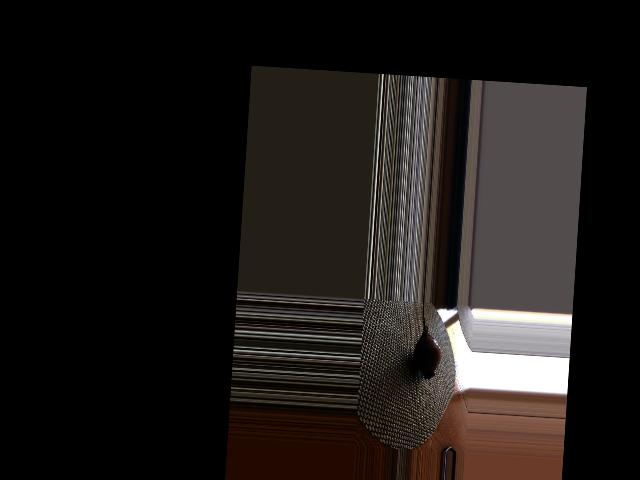beet: (412, 302, 444, 380)
